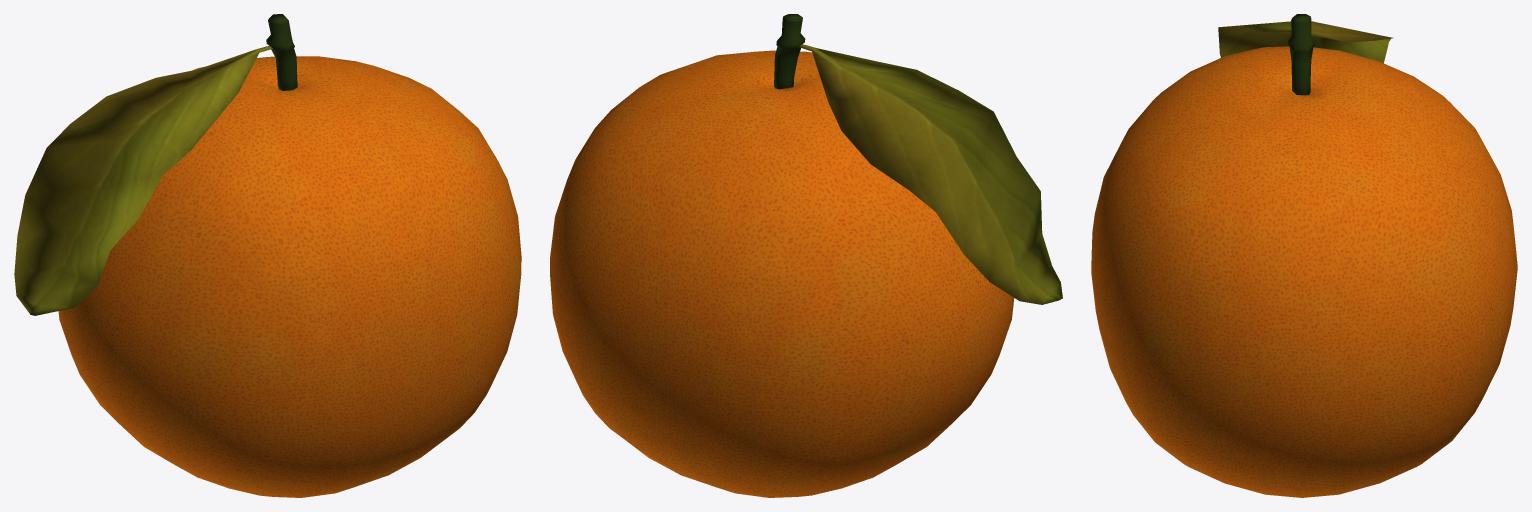
File: orange.glb
3 renders of one model, left to right at view 1: azimuth 30°, elevation 25°; view 2: azimuth 150°, elevation 25°; view 3: azimuth 270°, elevation 25°, orthographic. The views are drawn at different scales.
Parts seen in each view (by area): view 1: Cube_0, Plane_2, top_1; view 2: Cube_0, Plane_2, top_1; view 3: Cube_0, Plane_2, top_1.
Part boxes in pixels (left/top/right/bottom): Cube_0: left=58, top=56, right=521, bottom=497; Plane_2: left=14, top=46, right=272, bottom=315; top_1: left=266, top=14, right=297, bottom=90; Cube_0: left=550, top=50, right=1014, bottom=497; Plane_2: left=798, top=44, right=1062, bottom=304; top_1: left=774, top=14, right=805, bottom=89; Cube_0: left=1091, top=46, right=1517, bottom=497; Plane_2: left=1218, top=21, right=1393, bottom=63; top_1: left=1288, top=14, right=1314, bottom=95.
Size of the model in its own units: 0.0525 by 0.0505 by 0.0417.
Materials: 3 (2 with a texture image).
